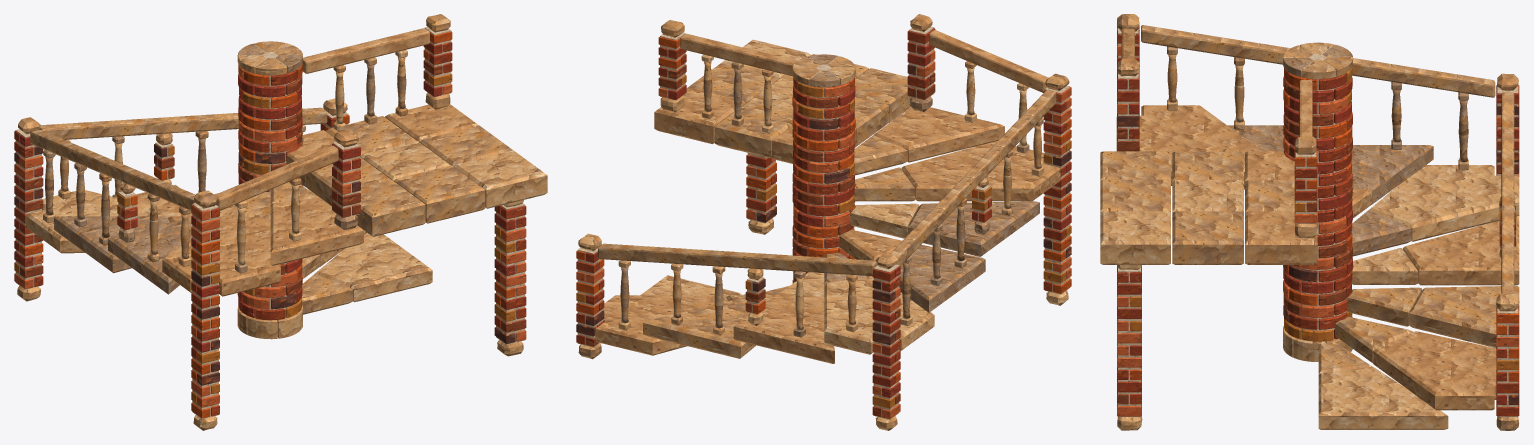
The model's file is stairs_spiral__clay_brick.glb.
3 views of the same model, side by side, from view 1: azimuth 30°, elevation 25°; view 2: azimuth 150°, elevation 25°; view 3: azimuth 270°, elevation 25° (orthographic). The views are drawn at different scales.
Parts seen in each view (by area): view 1: model; view 2: model; view 3: model.
Part boxes in pixels (box(x1,y1,x2,y2)): model: box(14, 14, 547, 430); model: box(576, 14, 1071, 430); model: box(1100, 14, 1519, 430).
Size of the model in its own units: 3.82 by 2.94 by 3.82.
Materials: 13 (13 with a texture image).
